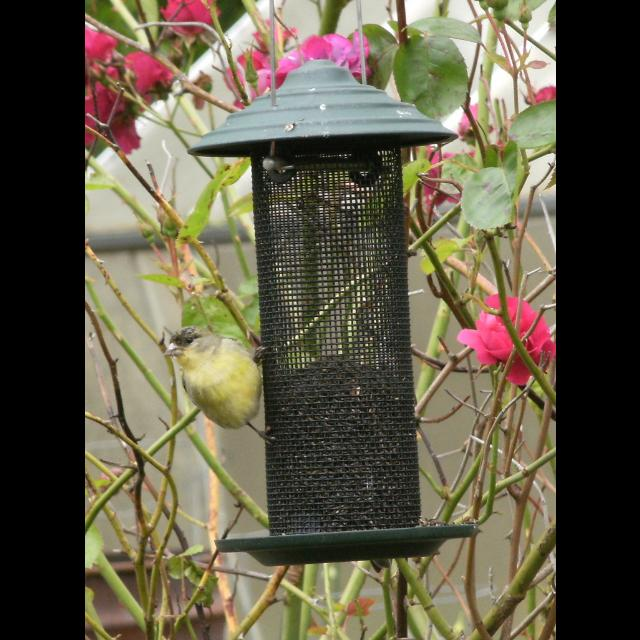Flower: (224, 18, 370, 108), (84, 23, 172, 154), (454, 286, 540, 380), (418, 146, 470, 210), (160, 0, 217, 36), (459, 106, 495, 144), (527, 85, 555, 102)
